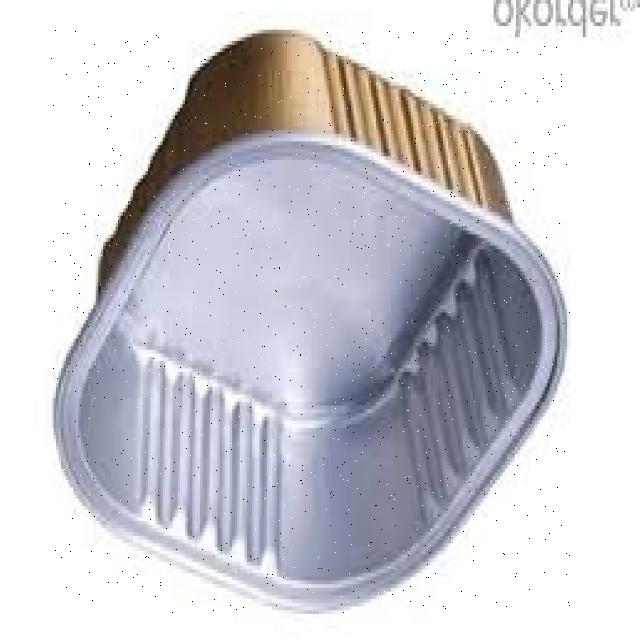metal: (52, 30, 570, 614)
